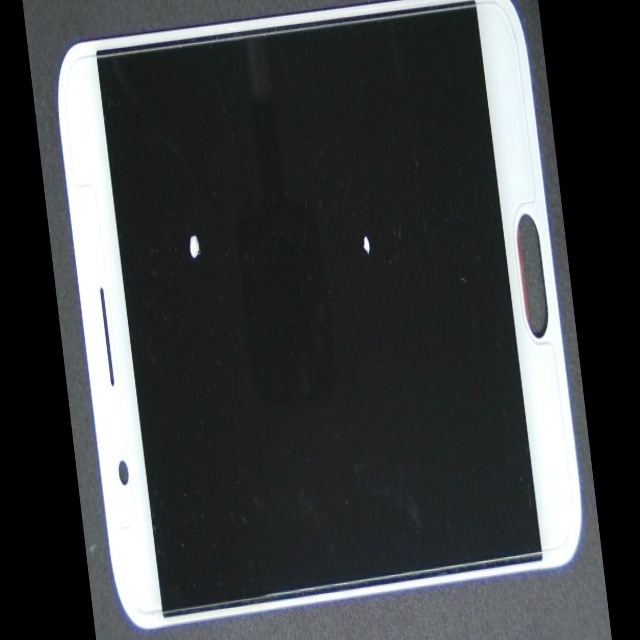stain: (208, 67, 546, 389), (117, 79, 273, 368)
